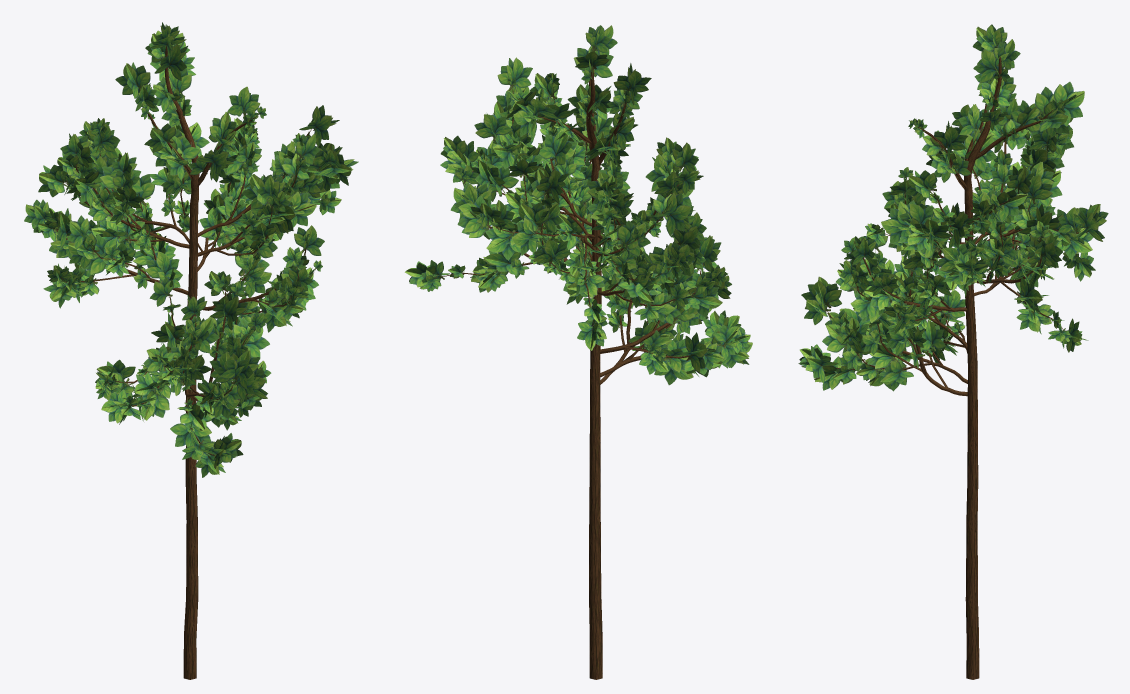
The model's file is aspen7.glb.
The picture shows the model from 3 angles, left to right: view 1: azimuth 30°, elevation 25°; view 2: azimuth 150°, elevation 25°; view 3: azimuth 270°, elevation 25°; orthographic projection. The views are drawn at different scales.
Parts seen in each view (by area): view 1: leaves, branches; view 2: leaves, branches; view 3: leaves, branches.
Boxes of the visible parts, x1,y1,x2,y2 form: leaves: [24, 22, 358, 477]; branches: [55, 46, 326, 679]; leaves: [405, 25, 752, 385]; branches: [439, 66, 723, 679]; leaves: [798, 24, 1108, 391]; branches: [827, 57, 1082, 679].
Bounding box in the file's own units: 15.93 × 33.06 × 14.95.
2 materials, 2 textured.
